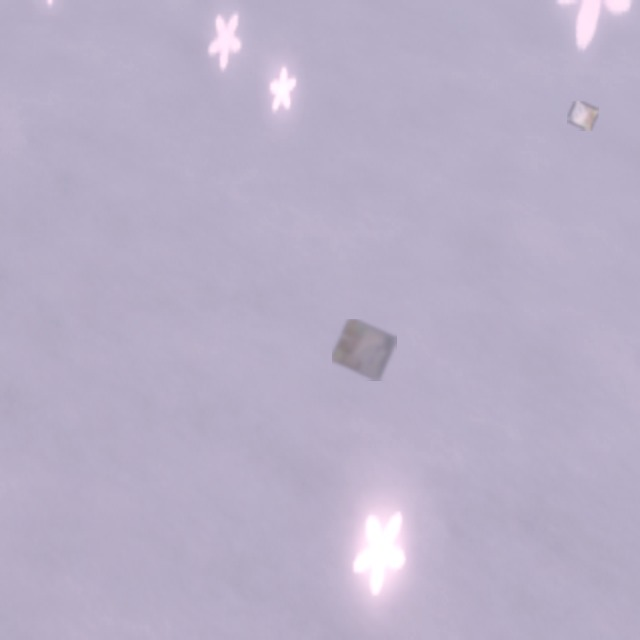urso_branco: (332, 319, 397, 381), (567, 101, 599, 131)
